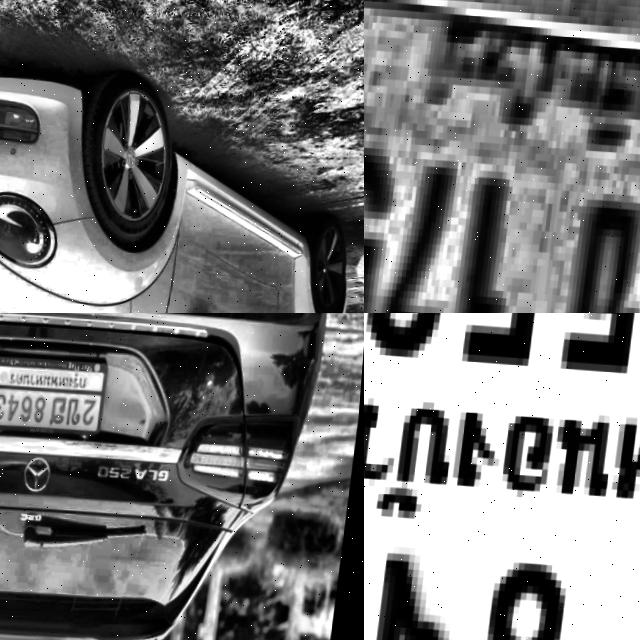license-plate: (364, 313, 640, 640), (364, 0, 640, 313), (0, 350, 111, 442)
